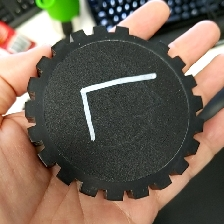gear: (23, 24, 205, 202)
missing: (114, 24, 170, 55)
